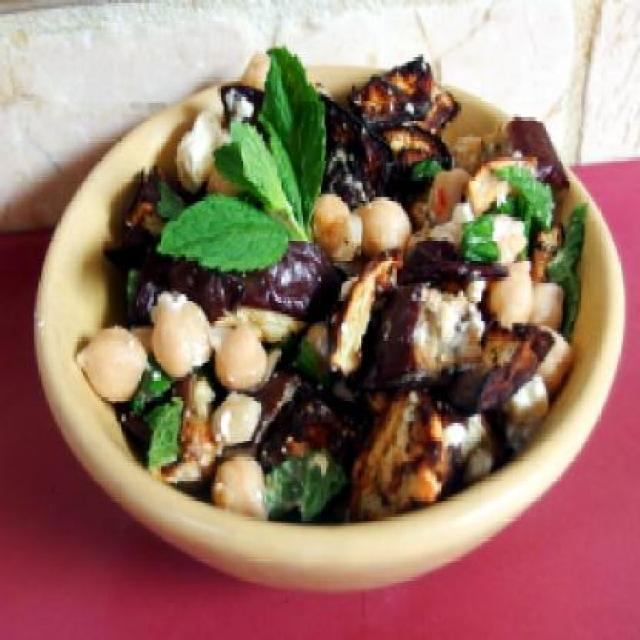eggplant: (273, 306, 482, 500), (222, 49, 456, 154), (113, 174, 310, 289)
hummus: (88, 300, 262, 503), (313, 183, 521, 260), (499, 265, 572, 418)
